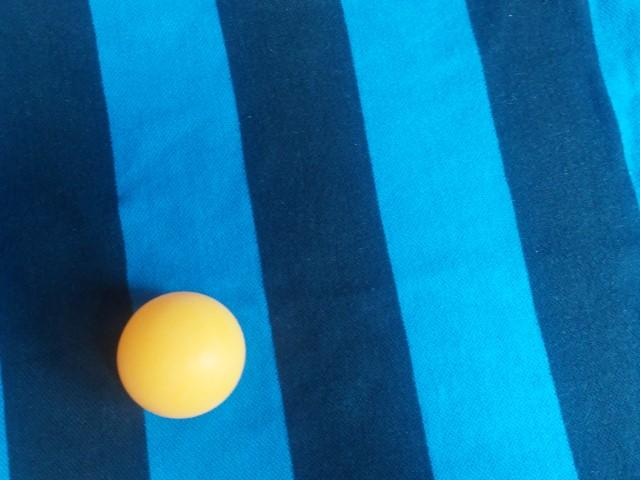oball: (387, 56, 527, 193)
